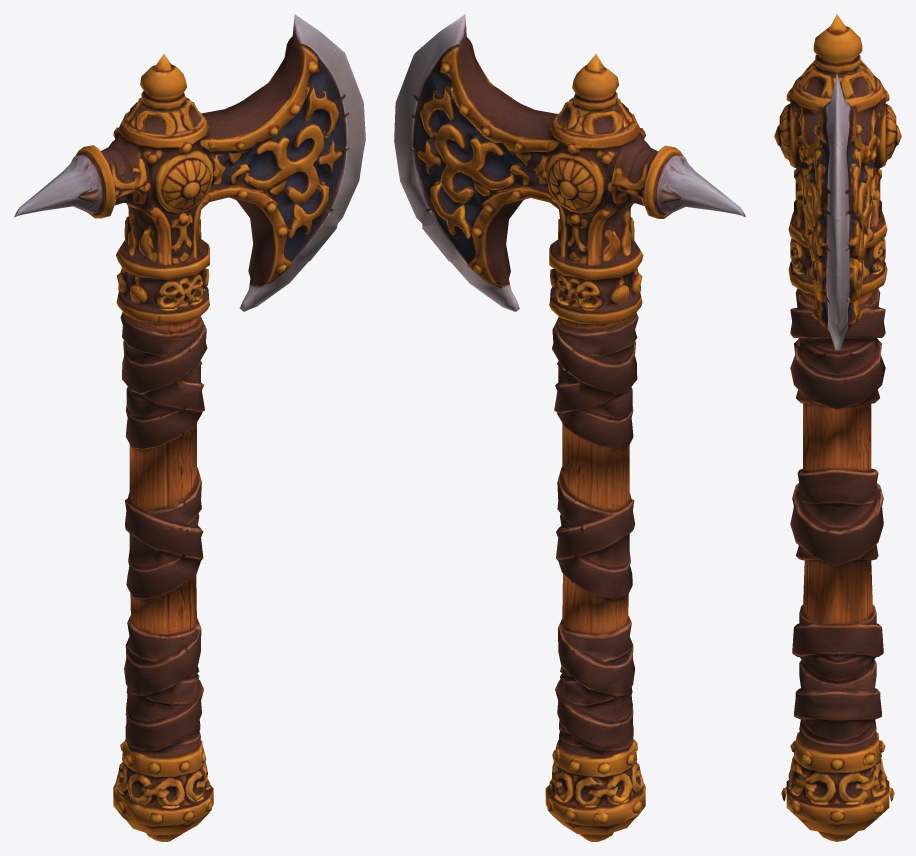
File: bahadir_balta.glb
3 views of the same model, side by side, from view 1: azimuth 30°, elevation 25°; view 2: azimuth 150°, elevation 25°; view 3: azimuth 270°, elevation 25° (orthographic). The views are drawn at different scales.
Parts seen in each view (by area): view 1: tripo_node_06a41936-0a0f-47b3-83b5-7665f0035bb9; view 2: tripo_node_06a41936-0a0f-47b3-83b5-7665f0035bb9; view 3: tripo_node_06a41936-0a0f-47b3-83b5-7665f0035bb9.
Boxes of the visible parts, x1,y1,x2,y2 form: tripo_node_06a41936-0a0f-47b3-83b5-7665f0035bb9: (14, 14, 365, 841); tripo_node_06a41936-0a0f-47b3-83b5-7665f0035bb9: (394, 14, 745, 841); tripo_node_06a41936-0a0f-47b3-83b5-7665f0035bb9: (774, 14, 901, 841).
Size of the model in its own units: 0.4638 by 1 by 0.1389.
Materials: 1 (1 with a texture image).
